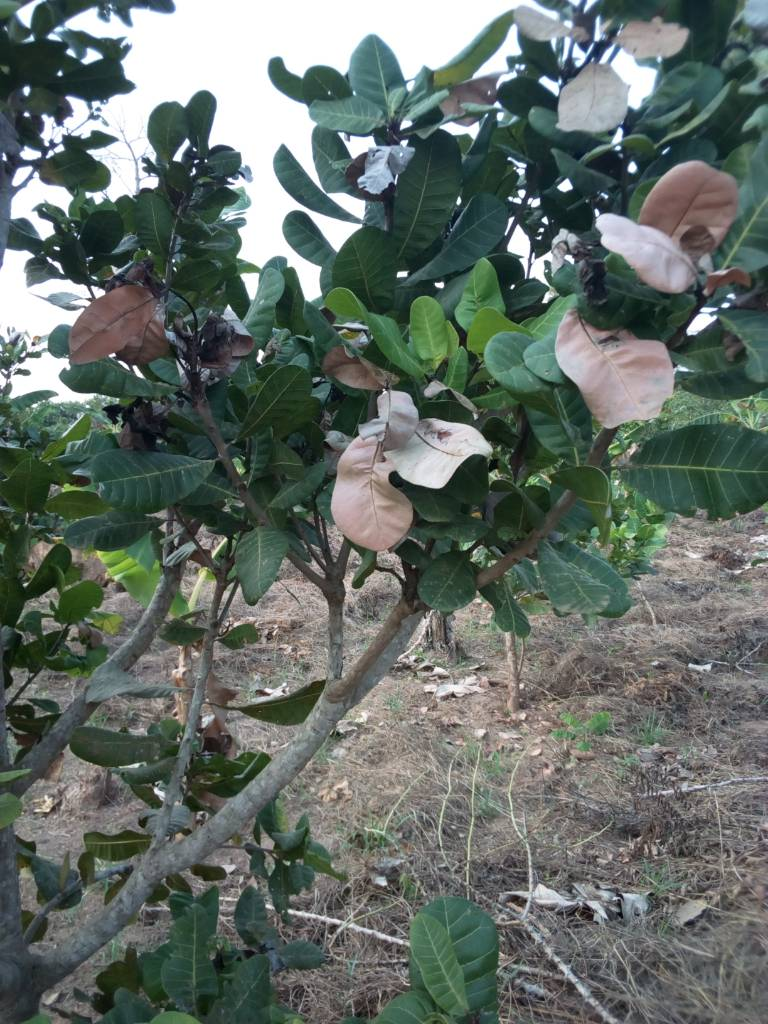Dessèchement des bourgeons: (97, 300, 236, 447), (140, 149, 226, 217)
